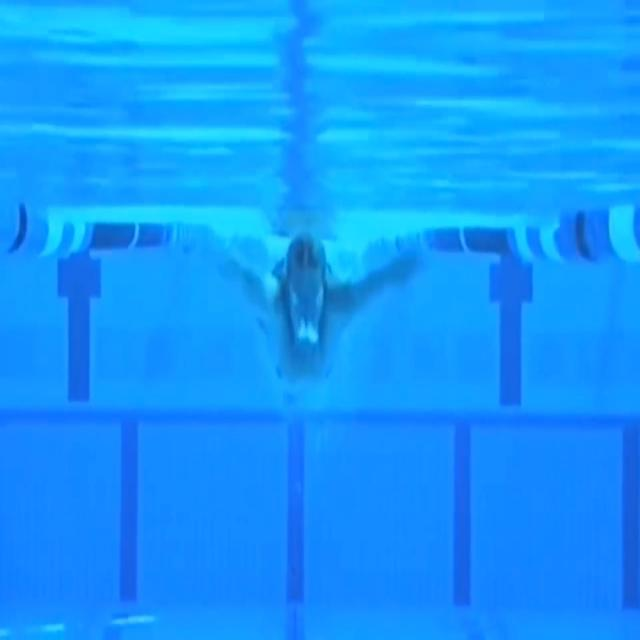Swimming: (197, 230, 426, 383)
